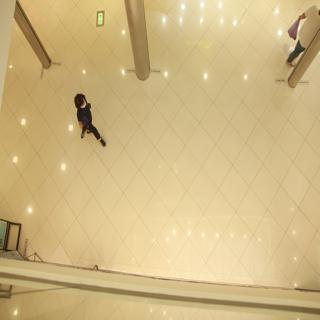person: (69, 83, 110, 164)
